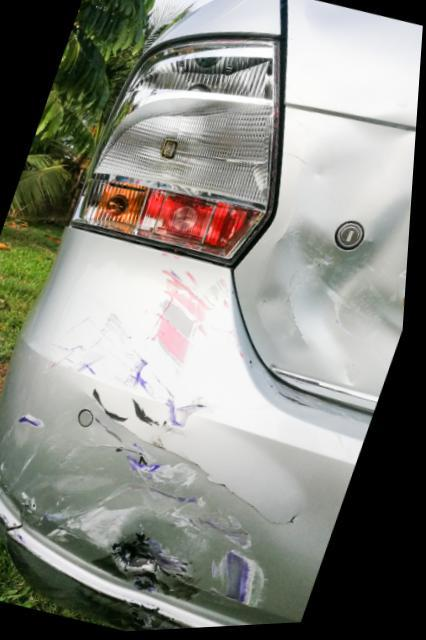crack: (209, 472, 303, 529), (14, 511, 30, 533)
dent: (261, 124, 418, 401), (305, 1, 423, 36)
scratch: (0, 266, 285, 616), (13, 531, 199, 633)
